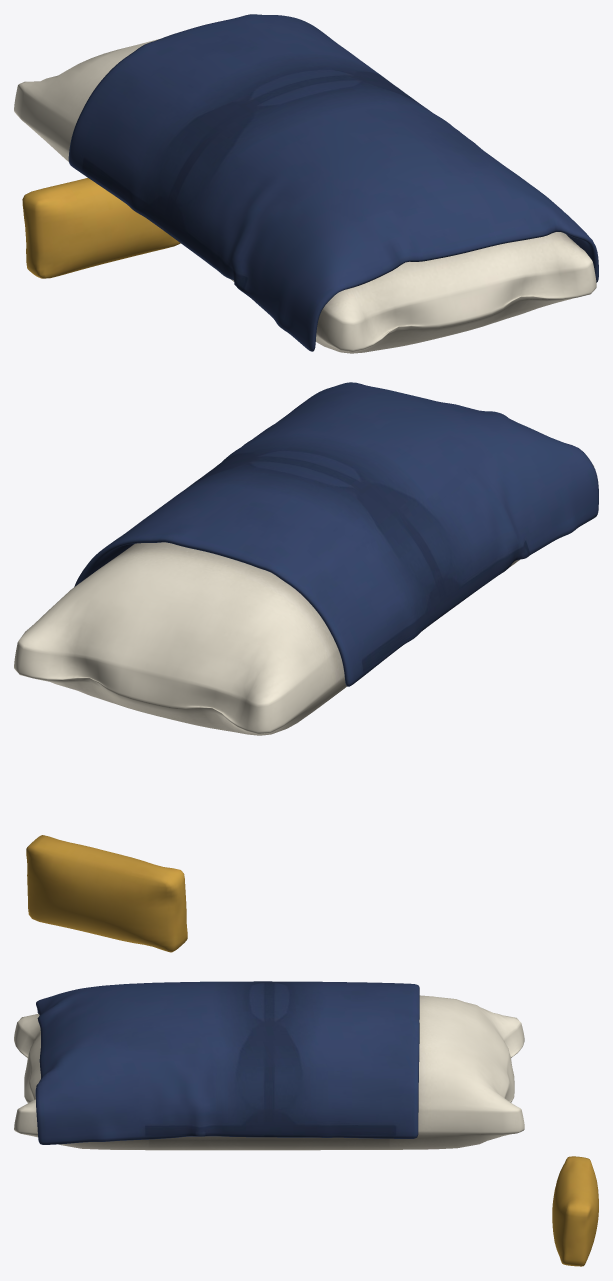
The model's file is futon_indigo.glb.
3 views of the same model, one above another, from view 1: azimuth 30°, elevation 25°; view 2: azimuth 150°, elevation 25°; view 3: azimuth 270°, elevation 25° (orthographic). The views are drawn at different scales.
Parts seen in each view (by area): view 1: futon_indigo_kake, futon_indigo_shiki, futon_indigo_makura; view 2: futon_indigo_kake, futon_indigo_shiki, futon_indigo_makura; view 3: futon_indigo_kake, futon_indigo_shiki, futon_indigo_makura.
Boxes of the visible parts, x1,y1,x2,y2 form: futon_indigo_kake: (68,14,598,351); futon_indigo_shiki: (14,38,596,353); futon_indigo_makura: (22,178,180,278); futon_indigo_kake: (74,382,598,686); futon_indigo_shiki: (14,465,594,735); futon_indigo_makura: (26,835,187,952); futon_indigo_kake: (35,981,419,1144); futon_indigo_shiki: (14,995,524,1150); futon_indigo_makura: (552,1156,598,1266).
Bounding box in the file's own units: 1.99 × 2.11 × 4.52.
3 materials, 3 textured.
